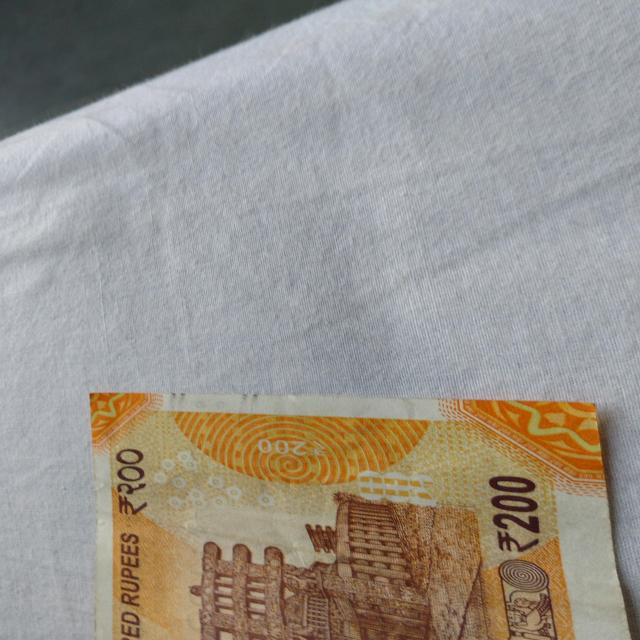Currency: (45, 357, 640, 640)
